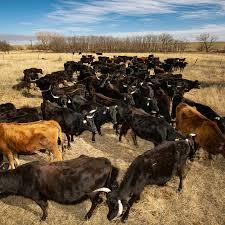cow: (0, 155, 113, 225), (105, 141, 191, 225), (0, 120, 62, 172), (178, 102, 225, 168), (119, 107, 178, 150), (41, 104, 98, 147), (172, 94, 225, 134), (72, 96, 118, 135), (97, 86, 135, 104), (169, 78, 200, 93), (135, 98, 159, 112), (173, 61, 189, 73), (80, 56, 95, 65)
